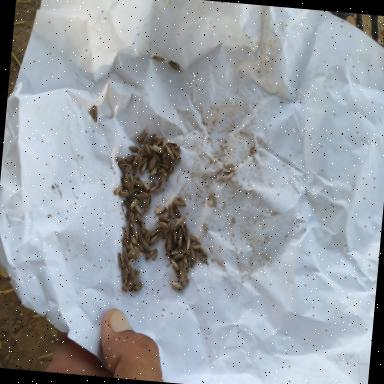pbw: (137, 124, 151, 143), (163, 236, 174, 258), (164, 144, 176, 164), (188, 246, 198, 268), (170, 196, 188, 208), (120, 174, 132, 192), (162, 220, 172, 241), (128, 247, 144, 260), (127, 210, 136, 233), (120, 205, 132, 222), (170, 226, 180, 246), (120, 263, 130, 283), (125, 260, 136, 278), (122, 245, 131, 267), (196, 252, 210, 266), (171, 202, 183, 218), (150, 226, 163, 240), (133, 204, 146, 218), (134, 210, 146, 225), (170, 146, 182, 161), (178, 268, 188, 286), (166, 230, 174, 252), (125, 172, 136, 188), (128, 222, 139, 238), (184, 234, 192, 256), (145, 247, 158, 260), (139, 239, 152, 252), (130, 280, 144, 292), (136, 190, 151, 201), (154, 217, 168, 228), (91, 104, 99, 123), (171, 264, 181, 279), (144, 143, 154, 158), (142, 197, 152, 212), (138, 220, 146, 238), (175, 215, 187, 227), (170, 281, 184, 291), (198, 244, 208, 258), (119, 162, 133, 172), (122, 164, 132, 178), (154, 205, 168, 215), (183, 254, 190, 274), (180, 222, 188, 239), (121, 198, 134, 208), (113, 183, 123, 196), (128, 234, 138, 247), (132, 152, 140, 168), (134, 160, 142, 176), (124, 224, 132, 240), (178, 260, 186, 276), (166, 61, 180, 70), (149, 166, 158, 180), (164, 141, 178, 150), (130, 197, 140, 209), (124, 154, 136, 164), (186, 233, 198, 243), (149, 156, 157, 171), (158, 171, 166, 186), (133, 178, 145, 188), (172, 252, 184, 262), (118, 252, 125, 269), (115, 156, 128, 165), (137, 228, 144, 244), (160, 136, 168, 150), (142, 138, 150, 152), (167, 202, 174, 218), (156, 163, 170, 171), (140, 161, 148, 175), (158, 167, 168, 178), (178, 230, 184, 248), (171, 259, 180, 271), (126, 182, 135, 194), (152, 145, 164, 154), (156, 134, 165, 146), (139, 156, 148, 168), (88, 108, 97, 120), (121, 279, 129, 292), (136, 243, 145, 254), (142, 180, 151, 191), (183, 270, 190, 284), (174, 248, 188, 255), (166, 164, 174, 176), (118, 189, 130, 197), (138, 148, 150, 156), (128, 144, 139, 152), (158, 215, 169, 223), (122, 238, 130, 249), (134, 226, 140, 240), (152, 55, 164, 62), (155, 154, 163, 164), (150, 184, 158, 194), (144, 228, 150, 241), (158, 180, 164, 192), (154, 134, 160, 146), (170, 250, 180, 256), (152, 138, 156, 144)
